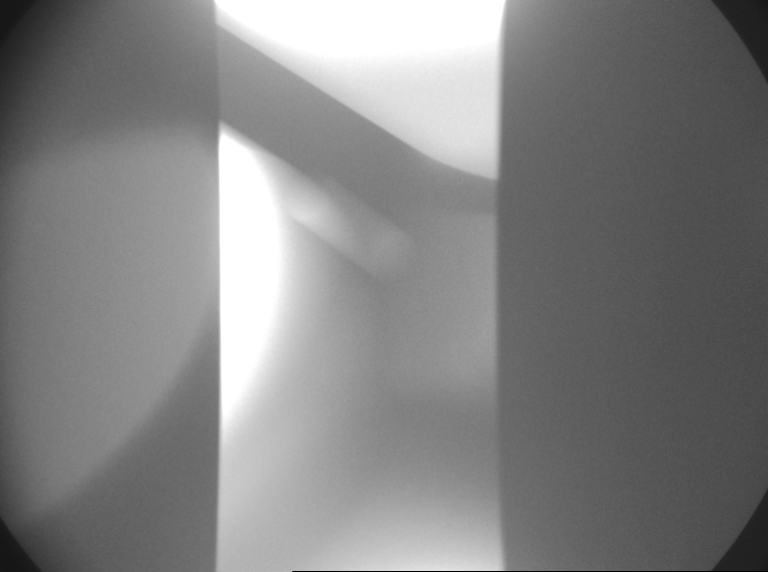defect: (444, 339, 478, 384)
